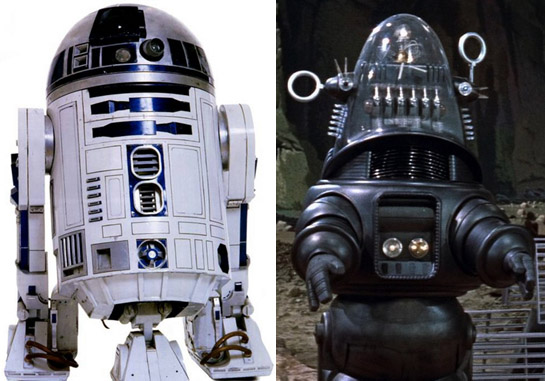r2d2: (4, 4, 274, 380)
